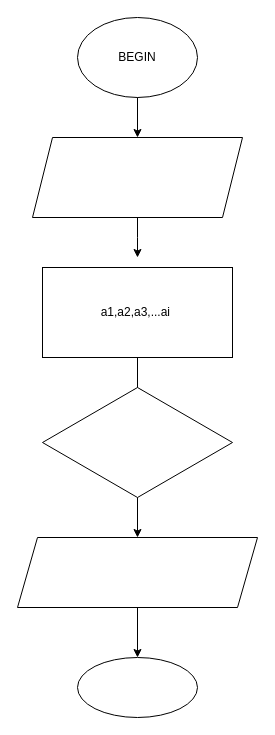
This 275x735 diagram has some shape labels left out. Here are the shapes that lost their labels. From the top down, the centre of each, then its label:
the point at 137,177: INPUT N
the point at 137,687: END
